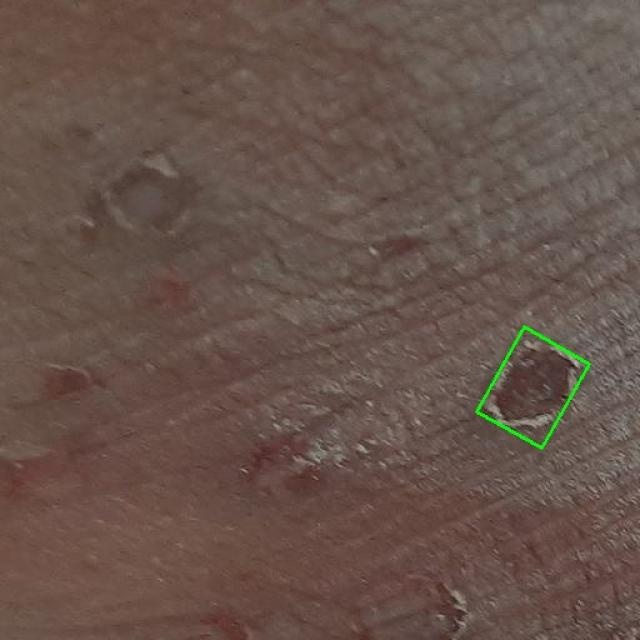Contact Dermatitis: (477, 327, 590, 448)
